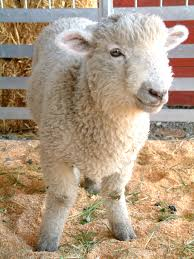koyun: (21, 15, 184, 249)
